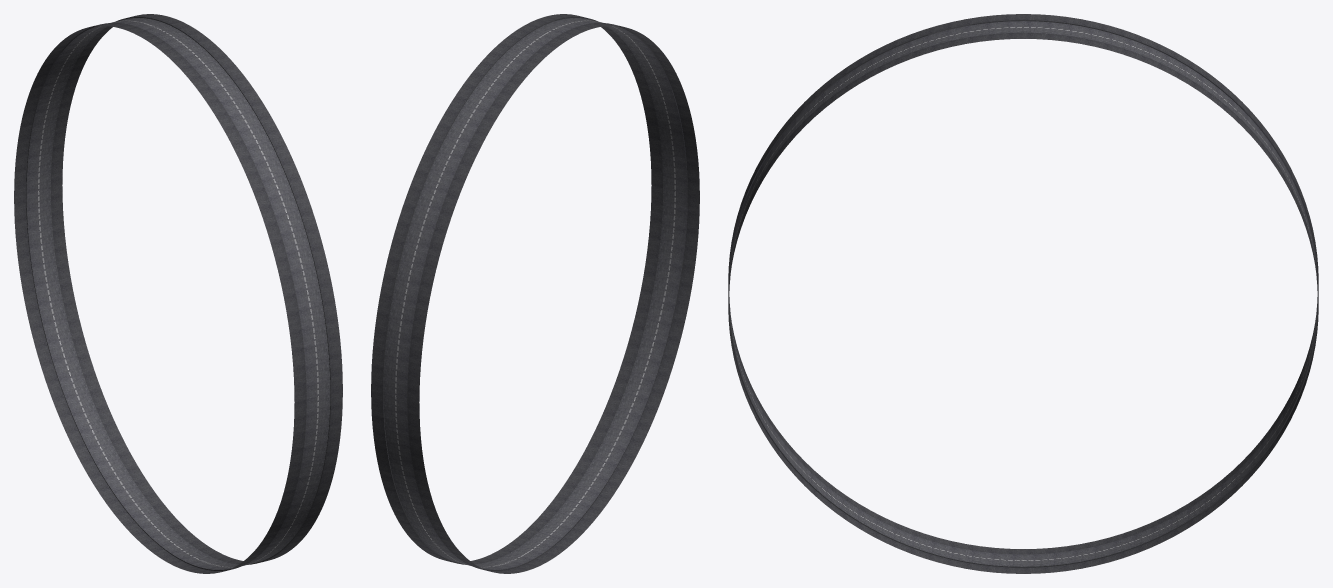
File: road.glb
3 views of the same model, side by side, from view 1: azimuth 30°, elevation 25°; view 2: azimuth 150°, elevation 25°; view 3: azimuth 270°, elevation 25° (orthographic). The views are drawn at different scales.
Parts seen in each view (by area): view 1: Cylinder; view 2: Cylinder; view 3: Cylinder.
Boxes of the visible parts, x1=… form: Cylinder: x1=14, y1=14, x2=342, y2=573; Cylinder: x1=371, y1=14, x2=699, y2=573; Cylinder: x1=728, y1=14, x2=1318, y2=573.
Size of the model in its own units: 0.2 by 2.01 by 2.01.
Materials: 2 (2 with a texture image).
